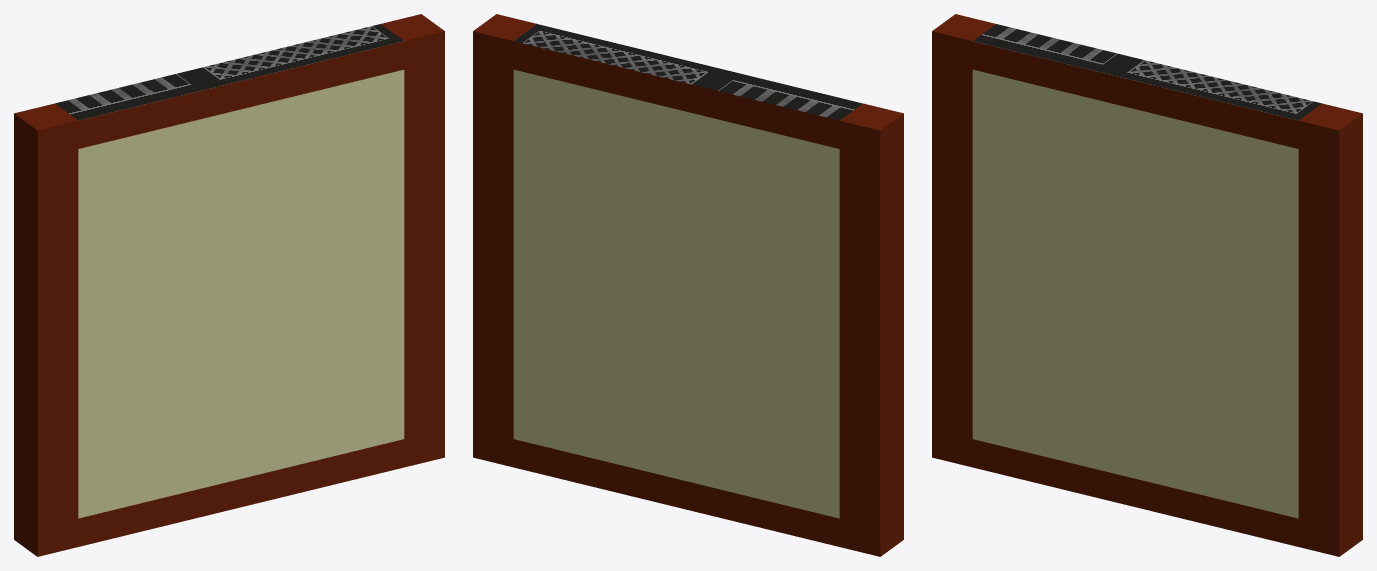
File: Wall_3x3.fbx
The picture shows the model from 3 angles, left to right: view 1: azimuth 30°, elevation 25°; view 2: azimuth 150°, elevation 25°; view 3: azimuth 330°, elevation 25°; orthographic projection.
Parts seen in each view (by area): view 1: Wall_3x3; view 2: Wall_3x3; view 3: Wall_3x3.
Boxes of the visible parts, x1,y1,x2,y2 form: Wall_3x3: (14, 14, 444, 556); Wall_3x3: (473, 14, 903, 556); Wall_3x3: (932, 14, 1362, 556).
Bounding box in the file's own units: 300 × 300 × 30.
